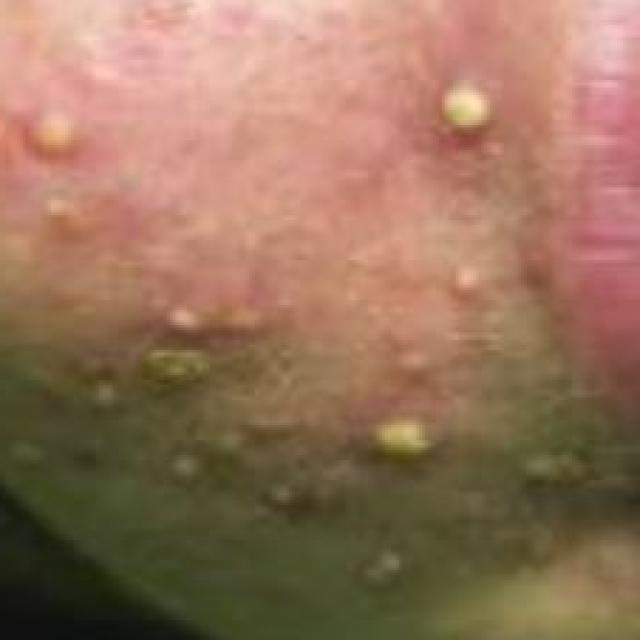pustule: (381, 52, 531, 164), (343, 377, 474, 497), (128, 283, 296, 356), (9, 85, 118, 176)
